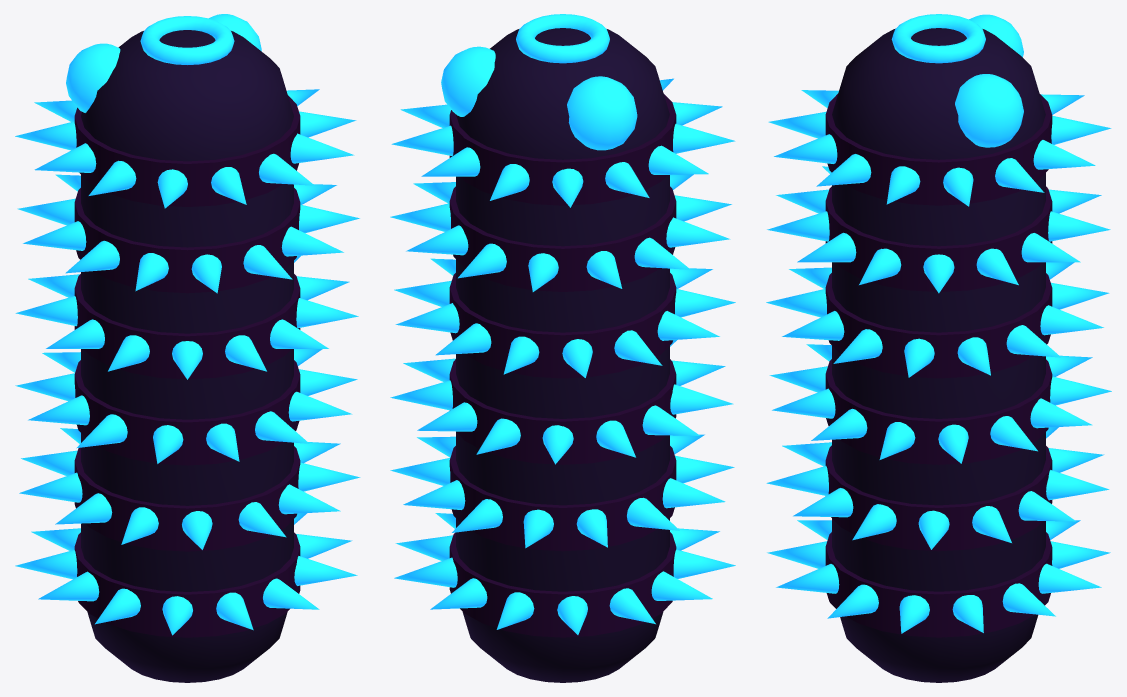
The model's file is SIN SUCKER.glb.
The picture shows the model from 3 angles, left to right: view 1: azimuth 30°, elevation 25°; view 2: azimuth 150°, elevation 25°; view 3: azimuth 270°, elevation 25°; orthographic projection.
Parts seen in each view (by area): view 1: SIN SUCKER; view 2: SIN SUCKER; view 3: SIN SUCKER.
Part boxes in pixels (x1,y1,x2,y2): SIN SUCKER: (15, 14, 360, 682); SIN SUCKER: (390, 14, 735, 682); SIN SUCKER: (766, 14, 1111, 682).
Size of the model in its own units: 0.276 by 0.5565 by 0.2759.
